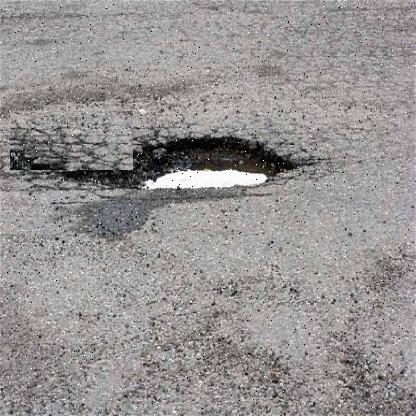crack: (10, 111, 134, 171)
pothole_water: (86, 125, 302, 200)
